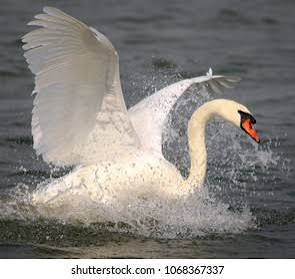swan: (24, 5, 270, 217)
